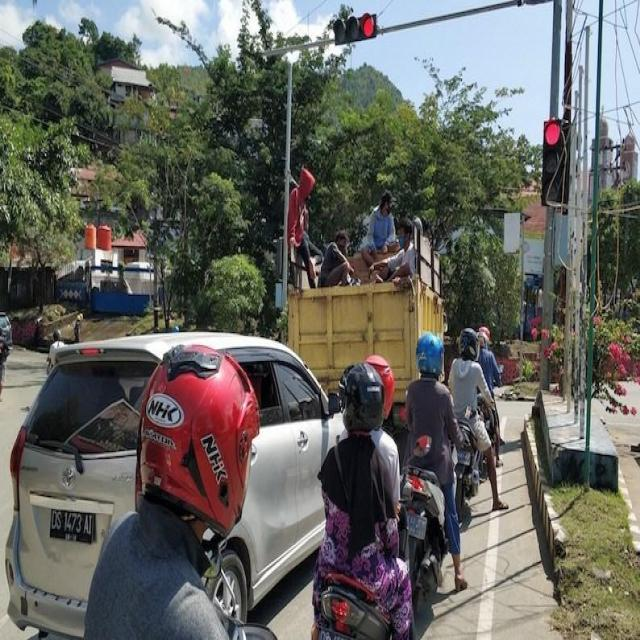red_light: (545, 115, 565, 205), (332, 15, 377, 43)
